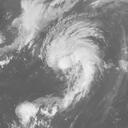cyclone: (40, 18, 102, 77)
